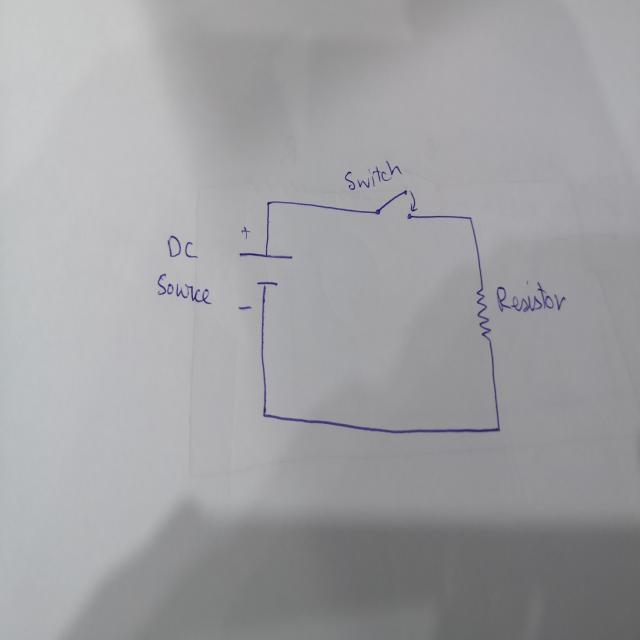junction: (463, 210, 475, 229), (260, 405, 270, 423), (494, 420, 502, 435), (264, 197, 271, 208)
resistor: (474, 284, 492, 342)
source: (237, 249, 295, 290)
switch: (376, 182, 417, 222)
text: (494, 280, 564, 314), (156, 268, 212, 306), (342, 160, 403, 190), (164, 234, 200, 267)
